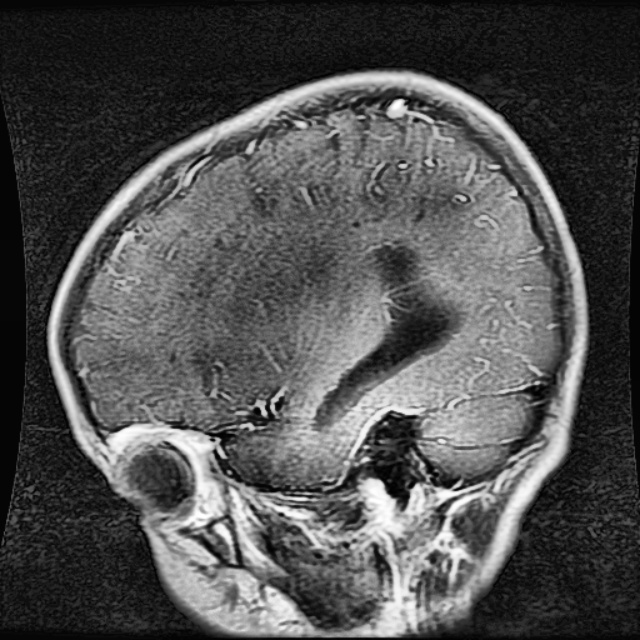Meningioma: (313, 239, 455, 430)
